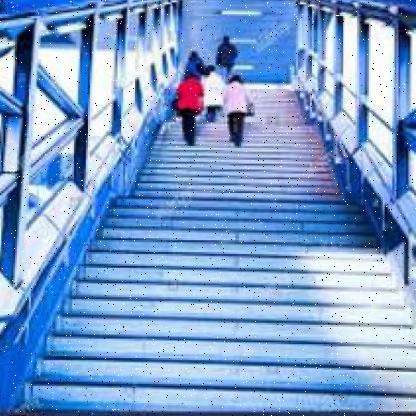stair_up: (15, 250, 416, 413)
